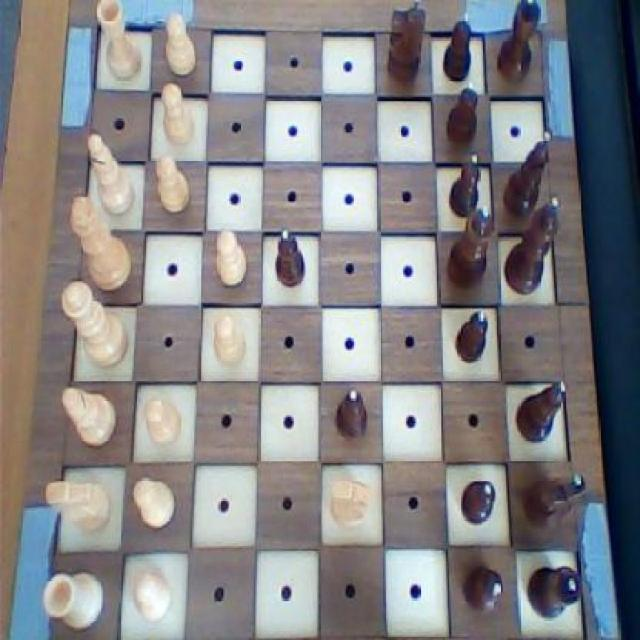bishop: (499, 128, 556, 223), (511, 377, 573, 449)
black-bishop: (502, 192, 566, 303)
black-king: (517, 466, 591, 539), (382, 0, 430, 89)
black-knight: (455, 555, 507, 623), (444, 146, 486, 223), (443, 74, 482, 154), (272, 218, 308, 298), (438, 6, 474, 82), (331, 385, 372, 449), (451, 304, 490, 368), (454, 476, 499, 528)
black-queen: (492, 0, 543, 88), (522, 558, 586, 624)
black-rook: (83, 128, 139, 218), (58, 378, 121, 452)
white-bishop: (66, 192, 135, 300)
white-king: (41, 475, 114, 540), (326, 468, 380, 535)
white-knight: (128, 562, 176, 629), (158, 8, 202, 80), (131, 472, 178, 537), (157, 74, 198, 148), (151, 150, 194, 218), (208, 304, 248, 372), (211, 223, 249, 292), (143, 390, 183, 446)
white-pawn: (58, 278, 132, 371)
white-queen: (37, 564, 108, 632), (94, 0, 144, 83)
